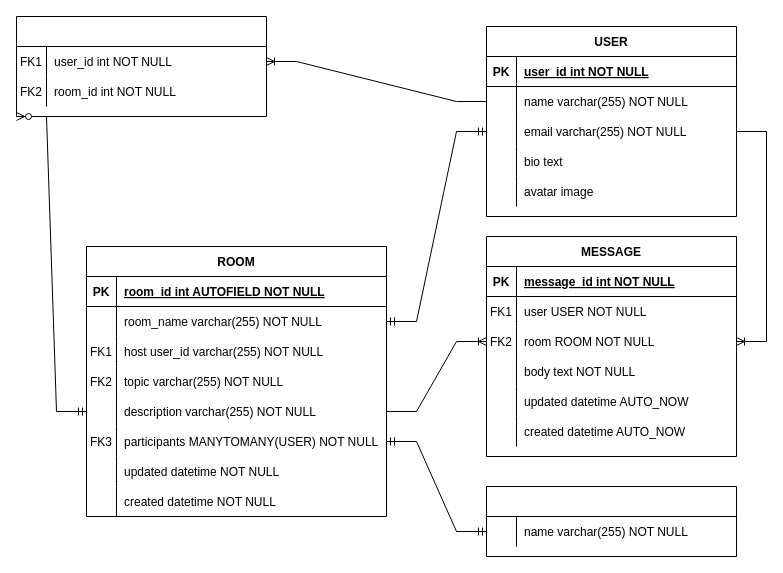
Some shapes in this 783 by 573 pixel diagram are drawn without their labels. The shapes that lost their labels are listed below. From the top down, each one's box as (x1, y1, x2, y2) in pixels, then its label:
(16, 16, 266, 116): Participant
(486, 486, 736, 556): TOPIC
